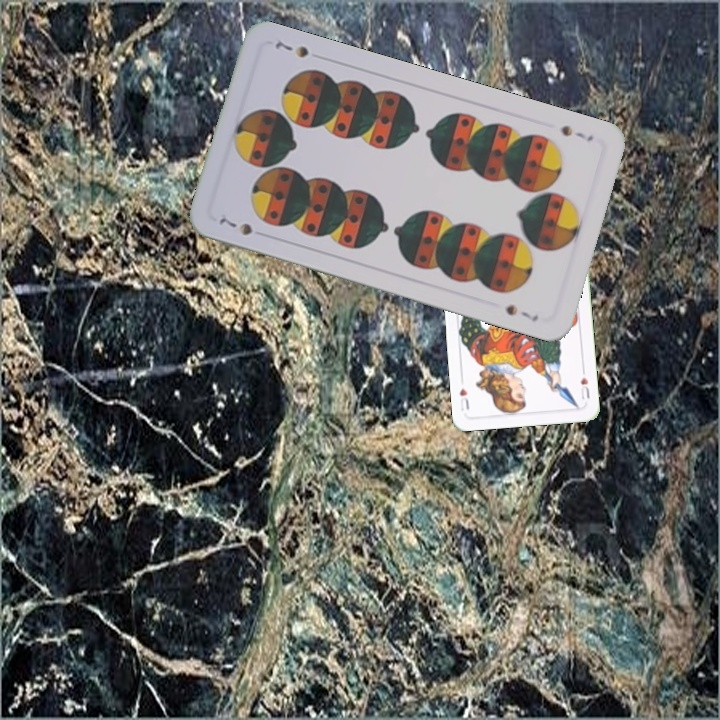HU: (577, 365, 592, 402)
S7: (215, 209, 255, 238), (557, 121, 596, 144)
